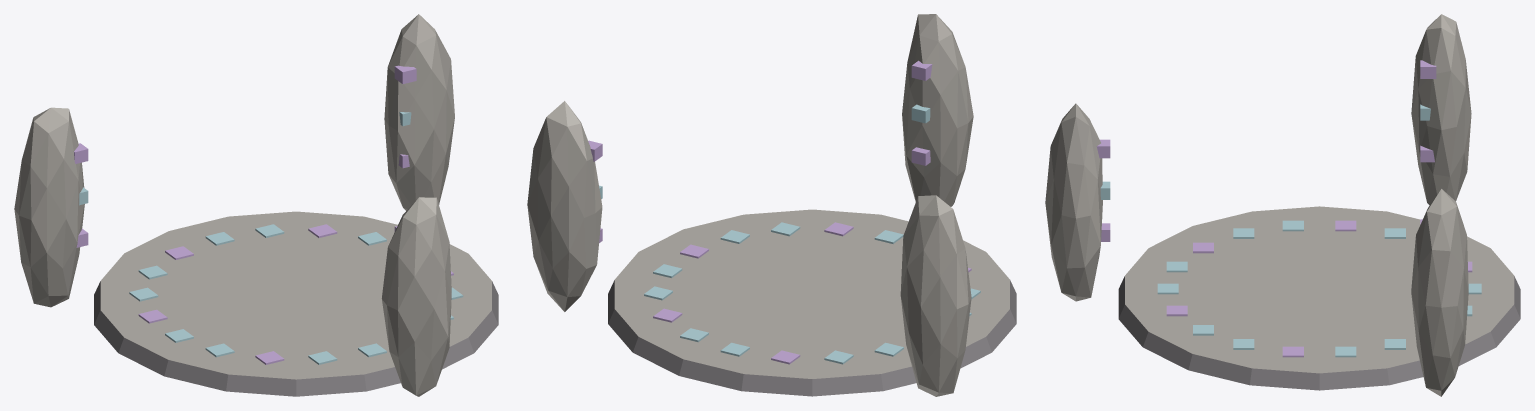
The model's file is teleporter.glb.
3 renders of one model, left to right at view 1: azimuth 30°, elevation 25°; view 2: azimuth 150°, elevation 25°; view 3: azimuth 270°, elevation 25°, orthographic.
Parts seen in each view (by area): view 1: teleporter; view 2: teleporter; view 3: teleporter.
Part boxes in pixels (x1=…): teleporter: x1=14, y1=14, x2=498, y2=396; teleporter: x1=527, y1=14, x2=1016, y2=396; teleporter: x1=1045, y1=14, x2=1520, y2=396.
Bounding box in the file's own units: 3.77 × 1.75 × 3.61.
